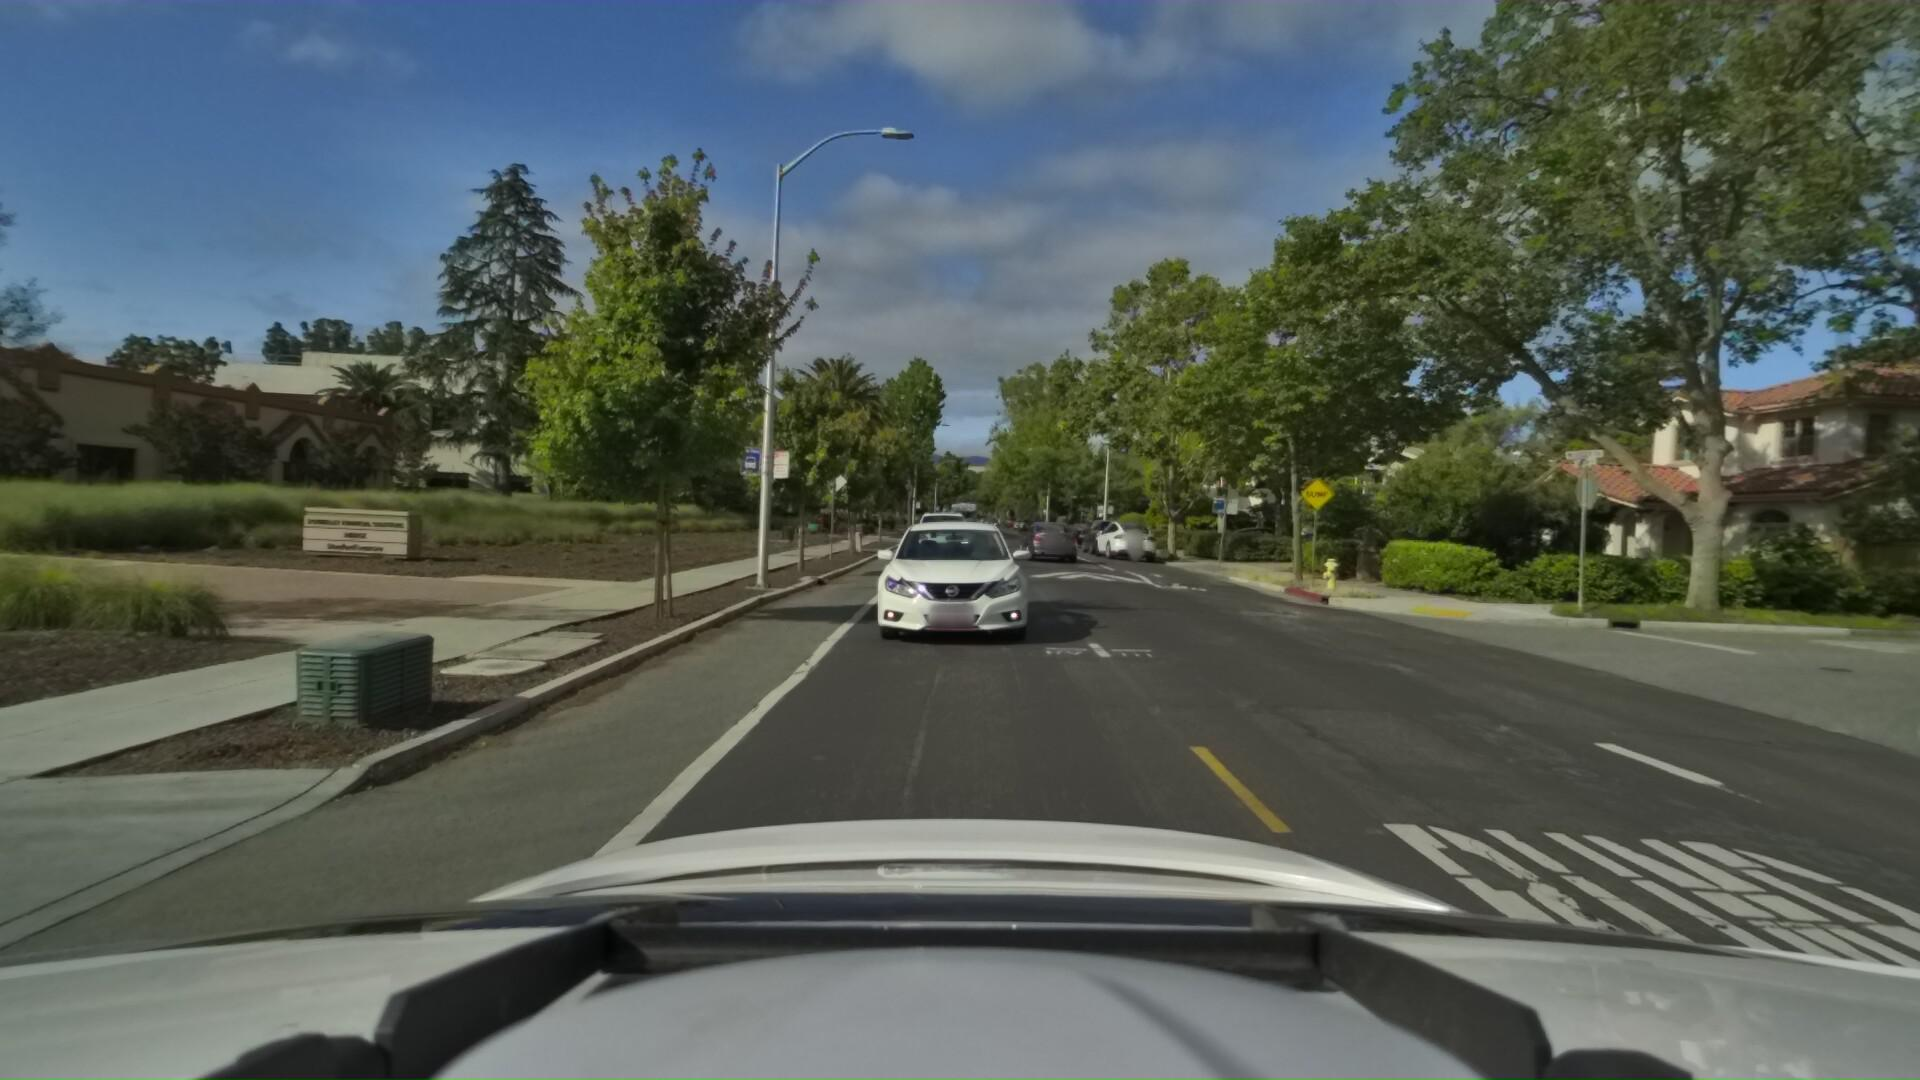car: (858, 512, 1046, 659), (907, 504, 971, 563), (1089, 517, 1159, 560), (1018, 516, 1080, 562), (1075, 516, 1133, 559), (1056, 521, 1095, 547)
